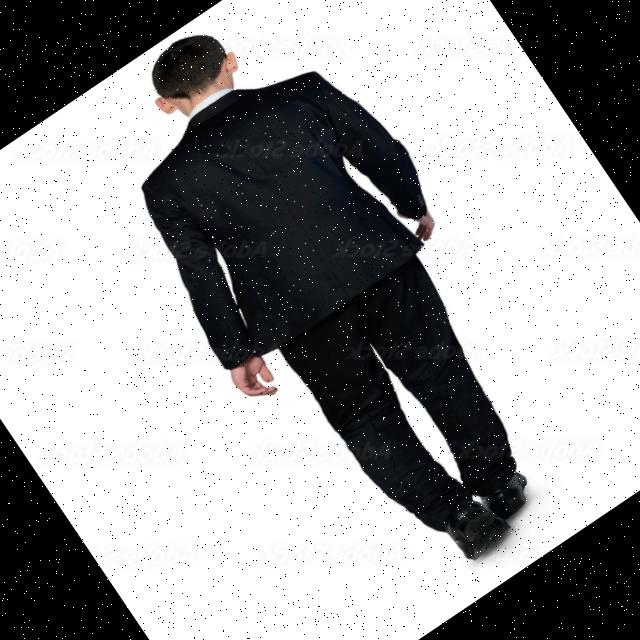Person: (57, 0, 616, 615)
